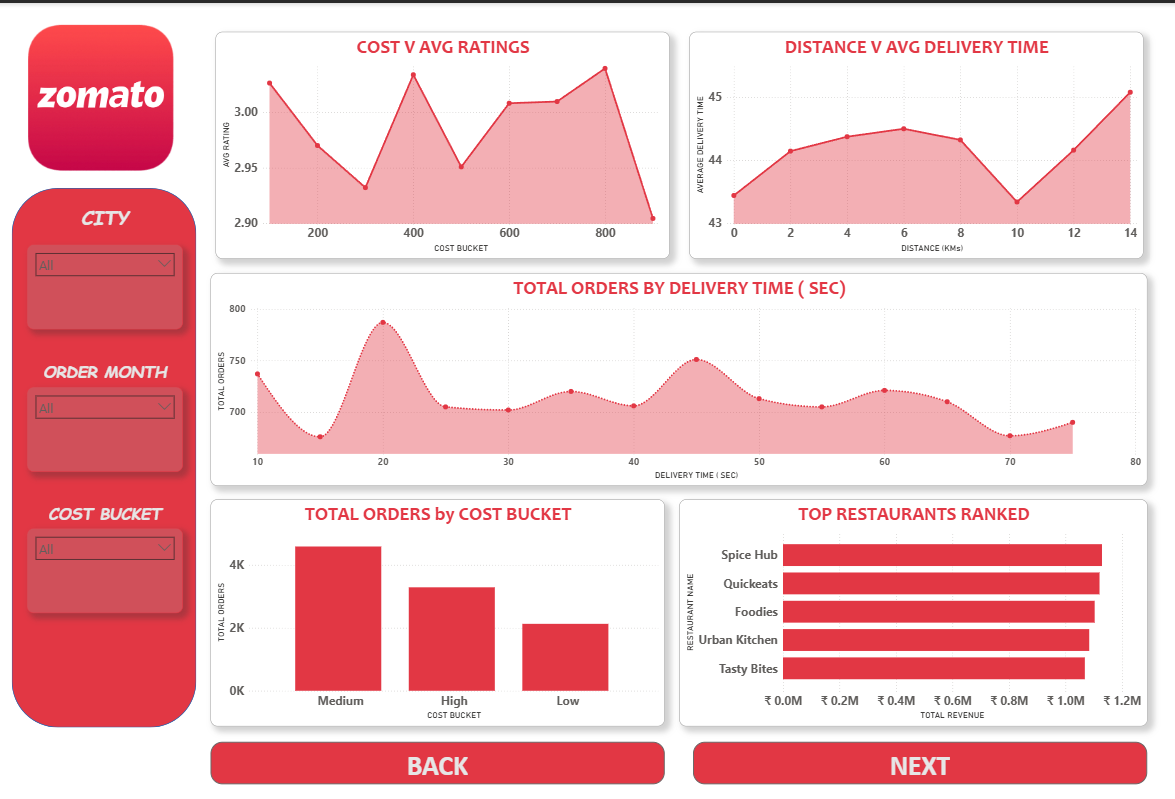

What the dashboard file says about the page in this screenshot:
{"tool":"powerbi","page":{"name":"Page 2","canvas":[2000,1350],"ordinal":1},"visuals":[{"type":"lineChart","title":"COST V AVG RATINGS","fields":{"Y":["Avg(data.Rating)"],"Category":["data.Cost (bins)"]},"box":[368,48,768,384],"z":0},{"type":"lineChart","title":"DISTANCE V AVG DELIVERY TIME","fields":{"Y":["Avg(data.Delivery_Time)"],"Category":["data.Distance (bins)"]},"box":[1168,48,768,384],"z":1000},{"type":"clusteredColumnChart","fields":{"Category":["data.Cost Bucket"],"Y":["CountNonNull(data.Order_ID)"]},"box":[360,840,768,384],"z":2000},{"type":"barChart","title":"TOP RESTAURANTS RANKED","fields":{"Category":["data.Restaurant_Name"],"Y":["data.Total_revenue"]},"box":[1152,840,792,384],"z":3000},{"type":"areaChart","title":"TOTAL ORDERS BY DELIVERY TIME ( SEC)","fields":{"Category":["data.Delivery_Time (bins)"],"Y":["CountNonNull(data.Order_ID)"]},"box":[360,456,1584,360],"z":4000},{"type":"image","box":[0,0,352,304],"z":5000},{"type":"shape","box":[24,312,312,912],"z":6000},{"type":"slicer","fields":{"Values":["data.Order_Month"]},"box":[48,648,264,144],"z":7000},{"type":"slicer","fields":{"Values":["data.City"]},"box":[48,408,264,144],"z":8000},{"type":"textbox","box":[48,336,264,96],"z":9000},{"type":"textbox","box":[48,600,264,96],"z":10000},{"type":"slicer","fields":{"Values":["data.Cost Bucket"]},"box":[48,888,264,144],"z":11000},{"type":"textbox","box":[48,840,264,96],"z":12000},{"type":"actionButton","box":[360,1248,768,72],"z":13000},{"type":"actionButton","box":[1176,1248,768,72],"z":14000}]}

Visuals, with their boxes in screenshot pixels (x1, y1, x2, y2), scaled from the page's 2000x1350 canvas onto the 1175x799 screenshot:
"COST V AVG RATINGS" lineChart: bbox=[216, 28, 667, 256]
"DISTANCE V AVG DELIVERY TIME" lineChart: bbox=[686, 28, 1137, 256]
clusteredColumnChart - data.Cost Bucket x CountNonNull(data.Order_ID): bbox=[212, 497, 663, 724]
"TOP RESTAURANTS RANKED" barChart: bbox=[677, 497, 1142, 724]
"TOTAL ORDERS BY DELIVERY TIME ( SEC)" areaChart: bbox=[212, 270, 1142, 483]
image: bbox=[0, 0, 207, 180]
shape: bbox=[14, 185, 197, 724]
slicer - data.Order_Month: bbox=[28, 384, 183, 469]
slicer - data.City: bbox=[28, 241, 183, 327]
textbox: bbox=[28, 199, 183, 256]
textbox: bbox=[28, 355, 183, 412]
slicer - data.Cost Bucket: bbox=[28, 526, 183, 611]
textbox: bbox=[28, 497, 183, 554]
actionButton: bbox=[212, 739, 663, 781]
actionButton: bbox=[691, 739, 1142, 781]
